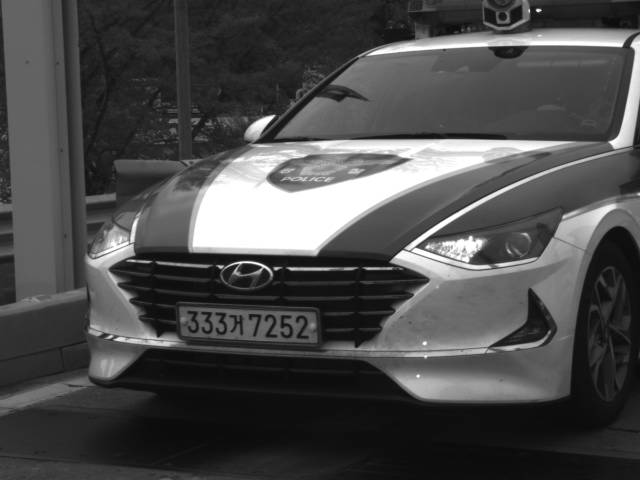car: (83, 25, 640, 429)
plate: (175, 301, 323, 348)
